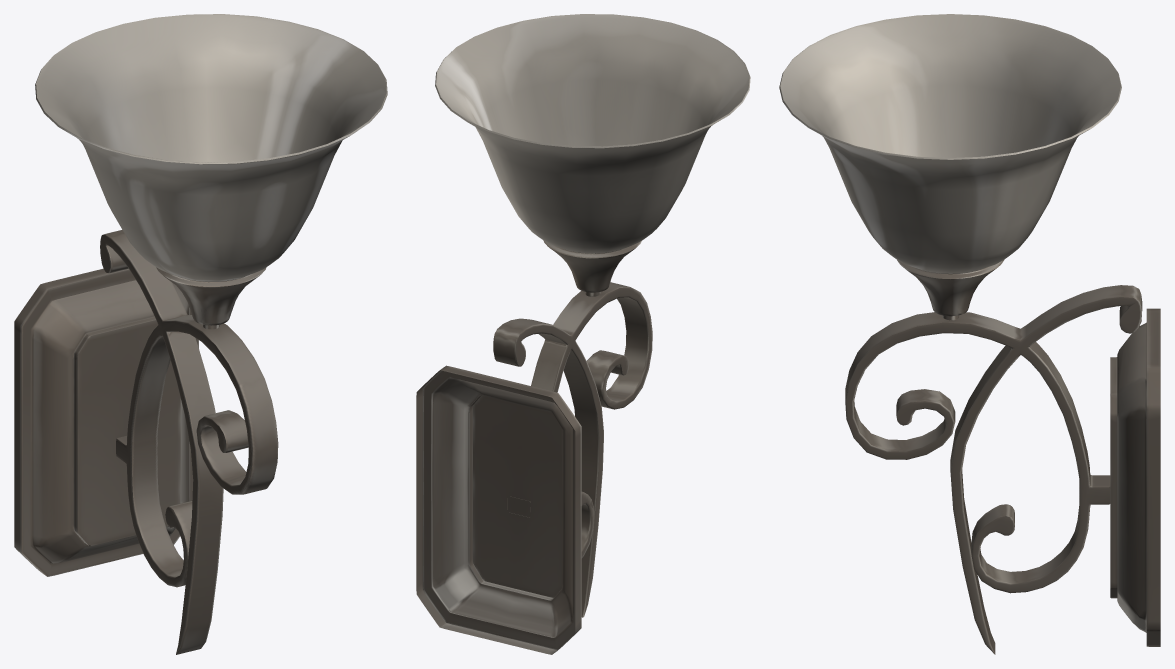
Rendered from raw_model.obj.
3 renders of one model, left to right at view 1: azimuth 30°, elevation 25°; view 2: azimuth 150°, elevation 25°; view 3: azimuth 270°, elevation 25°, orthographic. The views are drawn at different scales.
Parts seen in each view (by area): view 1: solid_002, glass_001; view 2: solid_002, glass_001; view 3: glass_001, solid_002.
Part boxes in pixels (box(x1,y1,x2,y2)): solid_002: box(14, 230, 278, 654); glass_001: box(35, 14, 387, 281); solid_002: box(416, 240, 652, 654); glass_001: box(435, 14, 750, 253); glass_001: box(779, 14, 1121, 273); solid_002: box(845, 260, 1160, 654).
Size of the model in its own units: 0.2707 by 0.4908 by 0.3013.
Materials: 1 (1 with a texture image).
